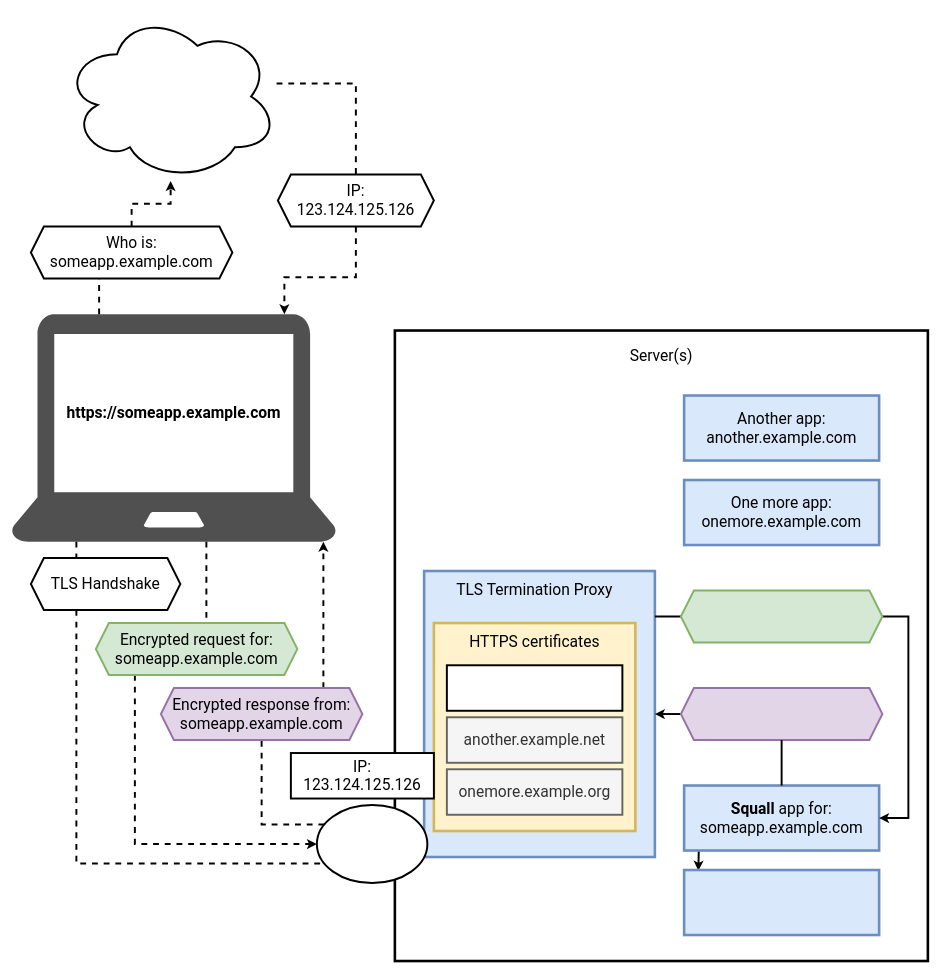
The diagram is 940 pixels wide and 974 high, and some of its shapes have lost their labels. The box of each missing label's shape, as (x1, y1, x2, y2) in pixels:
A Database: (682, 868, 880, 936)
Decrypted request for: someapp.example.com: (680, 589, 883, 643)
DNS Servers: (62, 11, 279, 182)
Plain response from: someapp.example.com: (680, 687, 883, 741)
Port 443 (HTTPS): (316, 804, 428, 884)
someapp.example.com: (446, 664, 623, 711)
